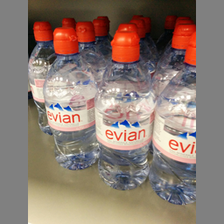water: (97, 29, 153, 191), (42, 26, 97, 171), (153, 32, 196, 205)
